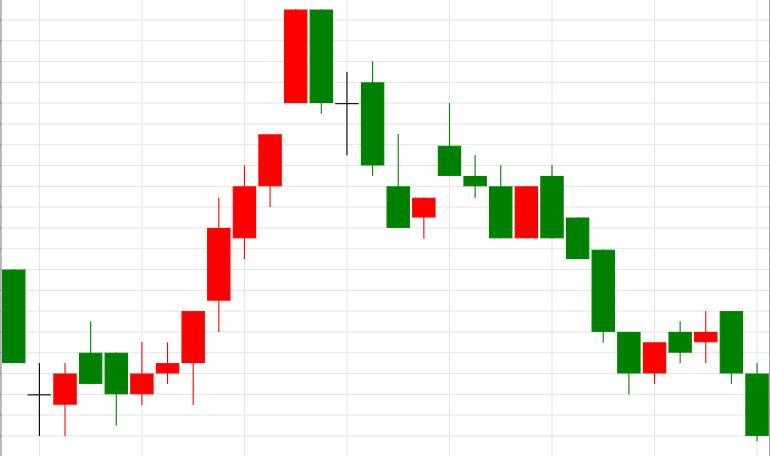bearish_engulfing_fall: (130, 9, 333, 405)
